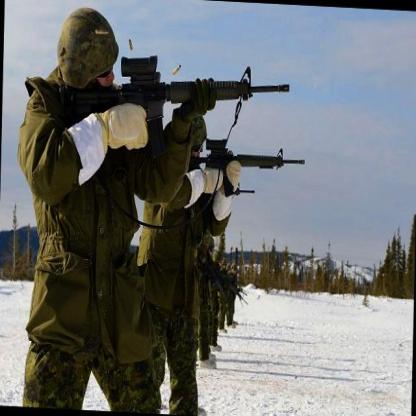rifle: (61, 52, 289, 143), (191, 133, 310, 191)
